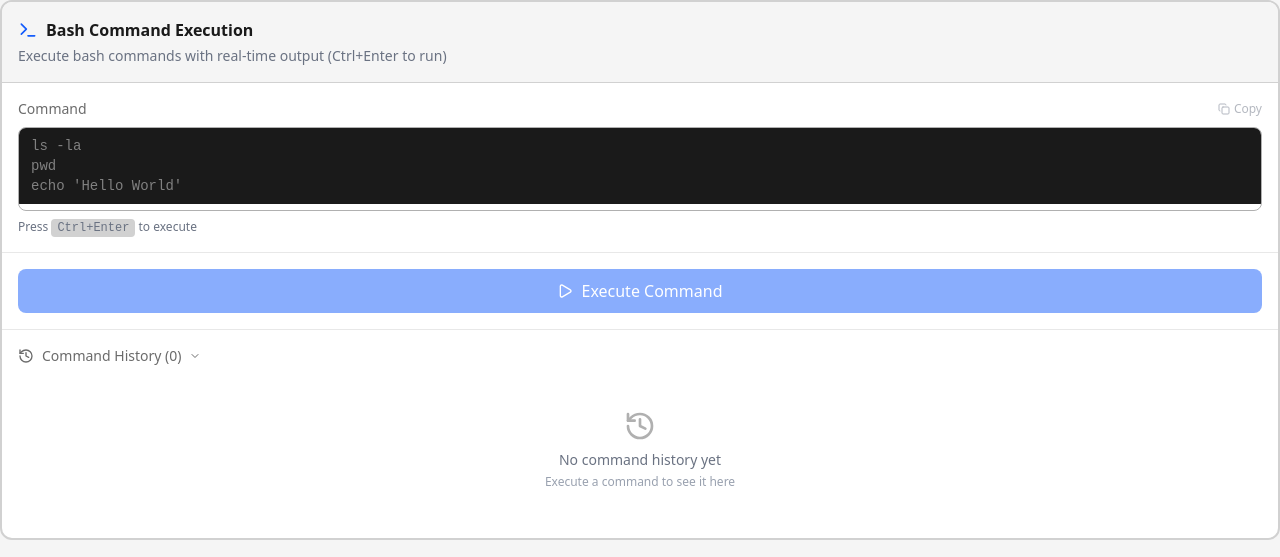
Test: BashToolExecutor › Command Input › should enable execute button when command is entered
This screenshot has width=1280, height=557.
Type "pwd" into the text box with test id "bash-command-input". click: (640, 166)
box: 19,128 -> 1261,204
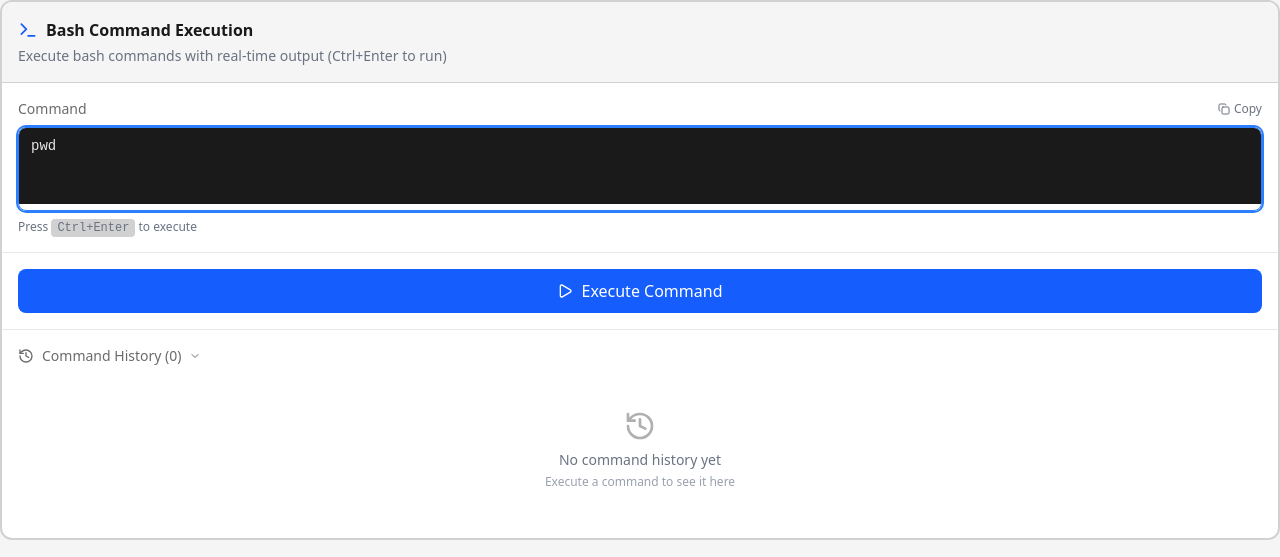
Now the button with test id "execute-bash-button" is enabled, box 18,269 -> 1262,313
